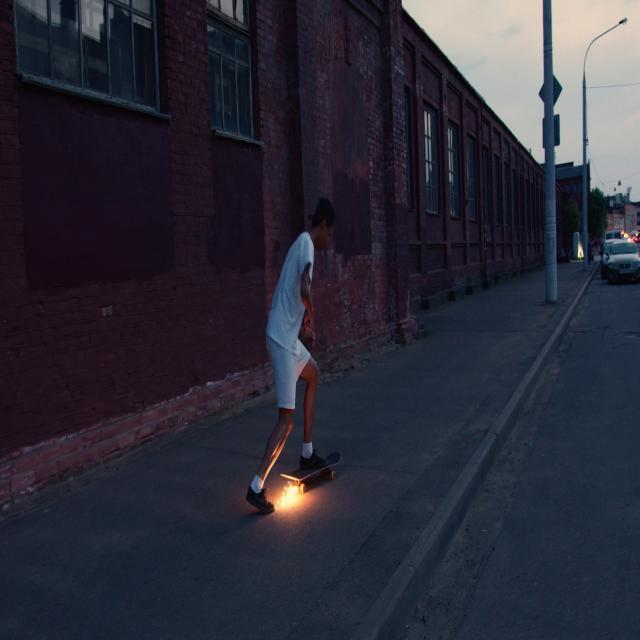Fire: (277, 478, 305, 517)
